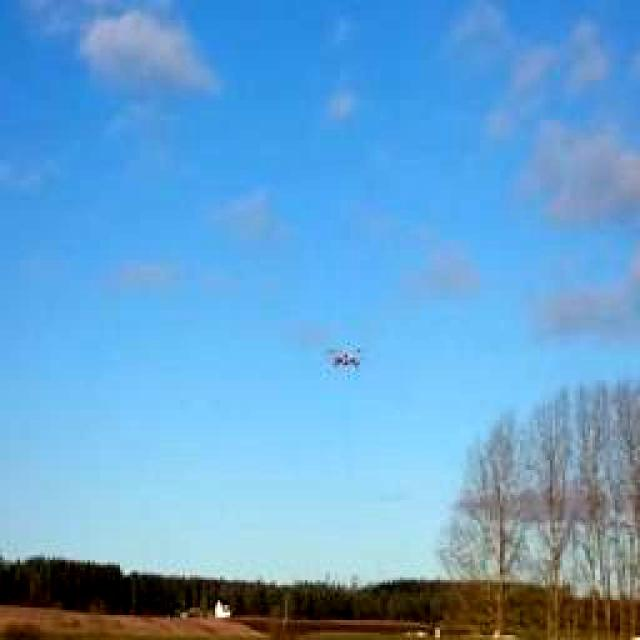bird: (306, 328, 384, 388)
